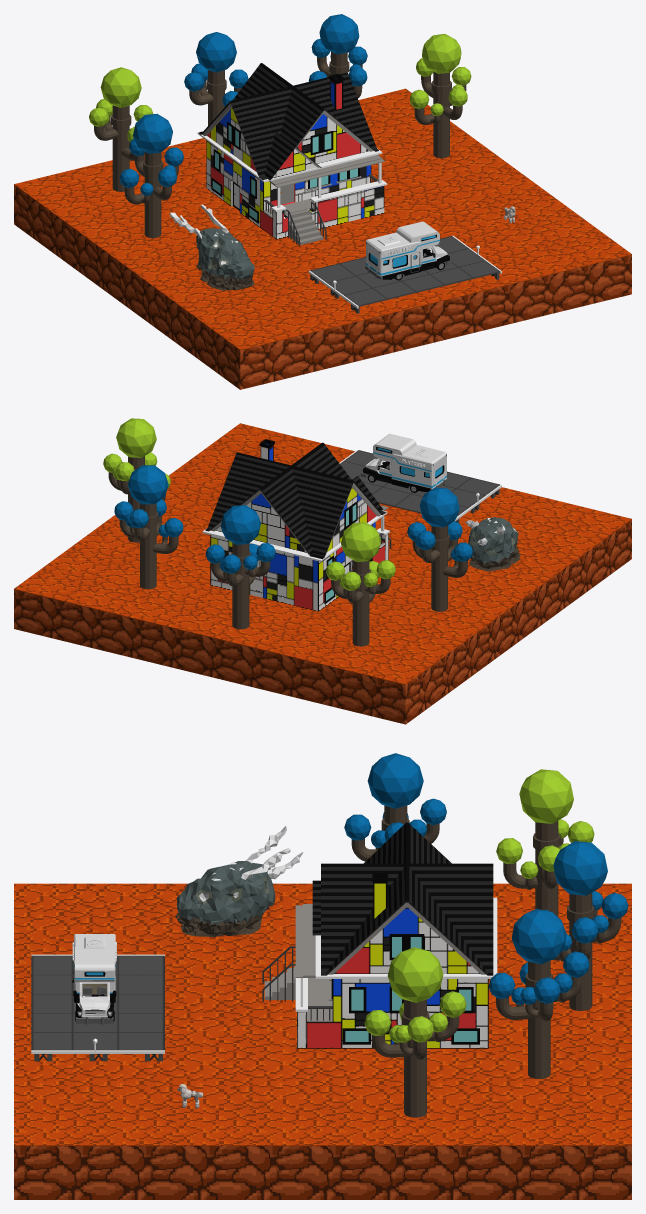
3 views of the same model, one above another, from view 1: azimuth 30°, elevation 25°; view 2: azimuth 150°, elevation 25°; view 3: azimuth 270°, elevation 25° (orthographic). The views are drawn at different scales.
Visible parts, largest first — view 1: Cube.001, Cube.840, VEHICLES_CAMPER, OBJRANDOM_METEORITE; view 2: Cube.001, Cube.840, VEHICLES_CAMPER, OBJRANDOM_METEORITE; view 3: Cube.001, Cube.840, OBJRANDOM_METEORITE, VEHICLES_CAMPER.
Boxes of the visible parts, <box> form: Cube.001: <box>14,14,631,389</box>; Cube.840: <box>197,63,387,246</box>; VEHICLES_CAMPER: <box>365,221,451,280</box>; OBJRANDOM_METEORITE: <box>170,204,254,290</box>; Cube.001: <box>14,418,631,724</box>; Cube.840: <box>202,439,391,611</box>; VEHICLES_CAMPER: <box>361,434,447,492</box>; OBJRANDOM_METEORITE: <box>465,517,520,571</box>; Cube.001: <box>14,753,631,1199</box>; Cube.840: <box>262,822,497,1048</box>; OBJRANDOM_METEORITE: <box>175,826,303,936</box>; VEHICLES_CAMPER: <box>72,934,116,1024</box>.
Bounding box in the file's own units: 4000 × 1663 × 4000.
33 materials, 5 textured.
